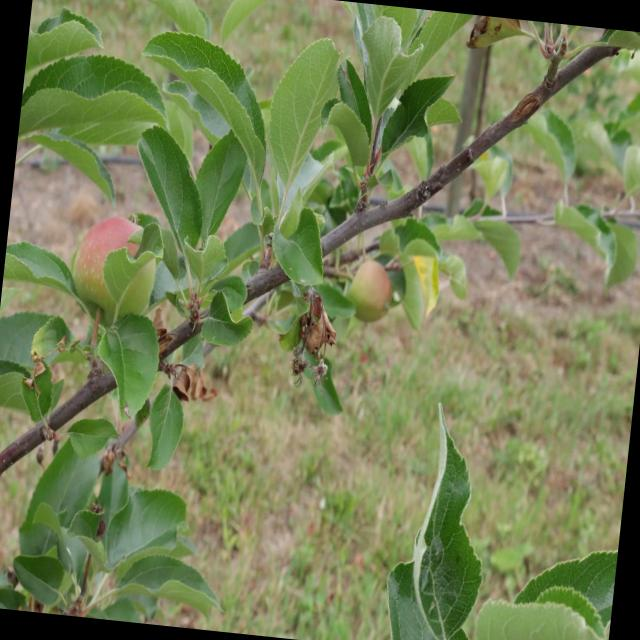-FireBlight-: (288, 284, 336, 360), (168, 351, 208, 411), (140, 308, 180, 352)
